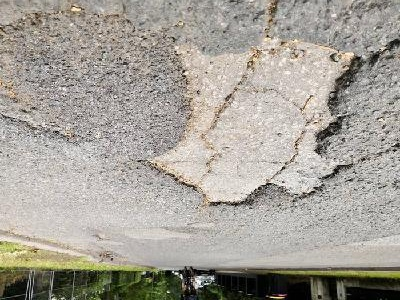pothole: (141, 37, 368, 210)
